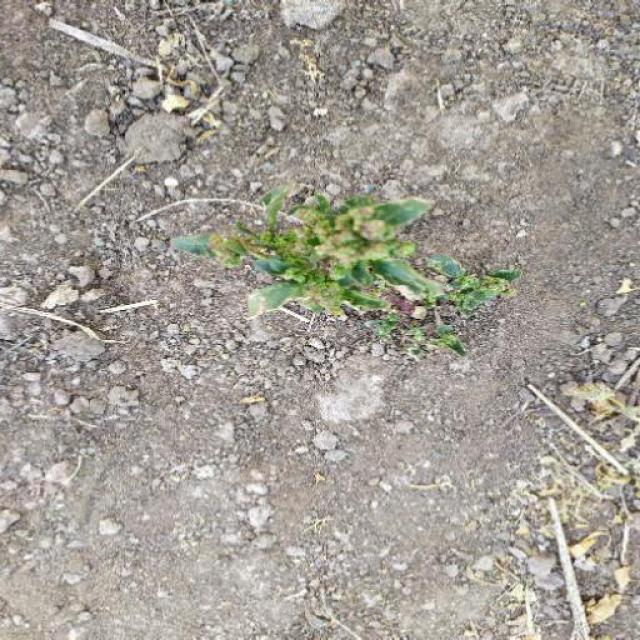weed: (236, 189, 506, 376)
